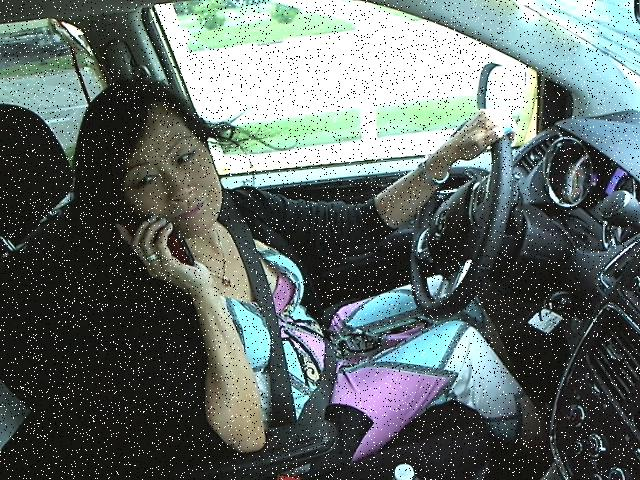c2 - Talking on the phone: (65, 79, 522, 451)
